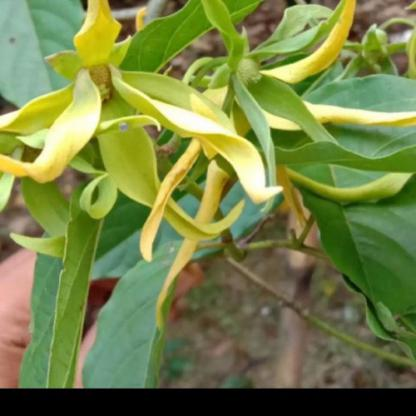Kenanga: (43, 41, 165, 173), (196, 34, 334, 148)
